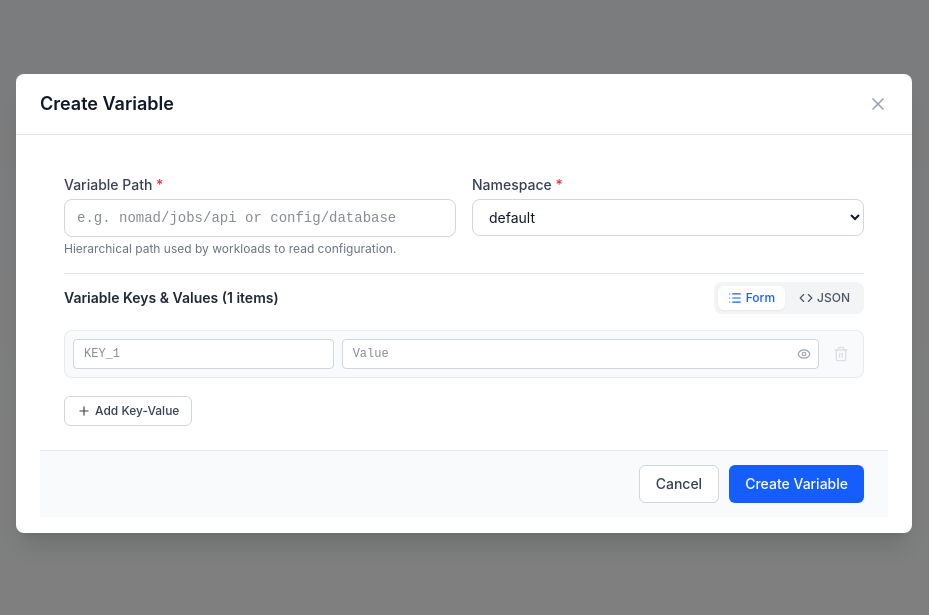
Test: VariableModal › switches to JSON mode and back
In the field with placeholder "KEY_1": (203, 354) [73, 338, 334, 368], type "FOO"
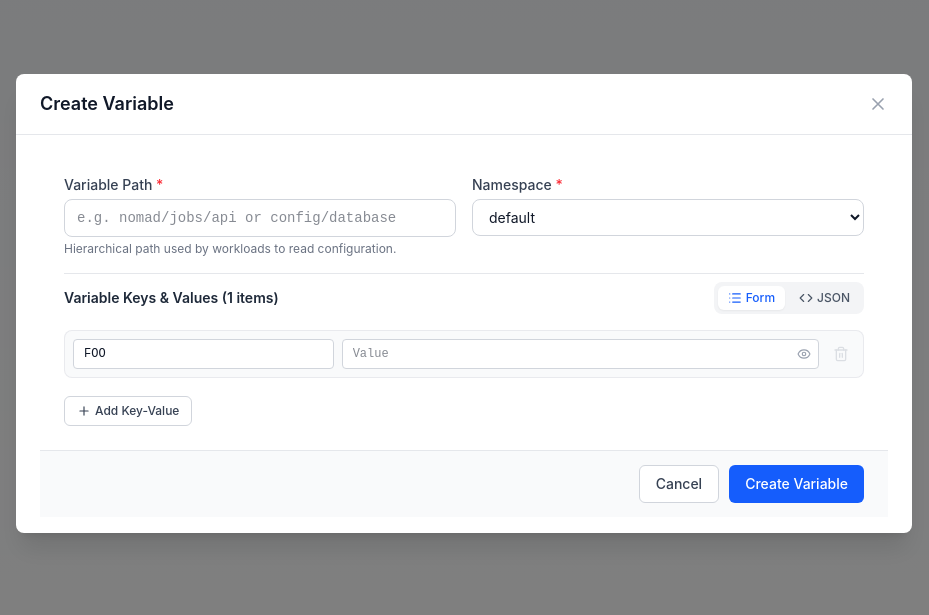
In the password field with placeholder "Value": (580, 354) [342, 338, 819, 368], type "BAR"
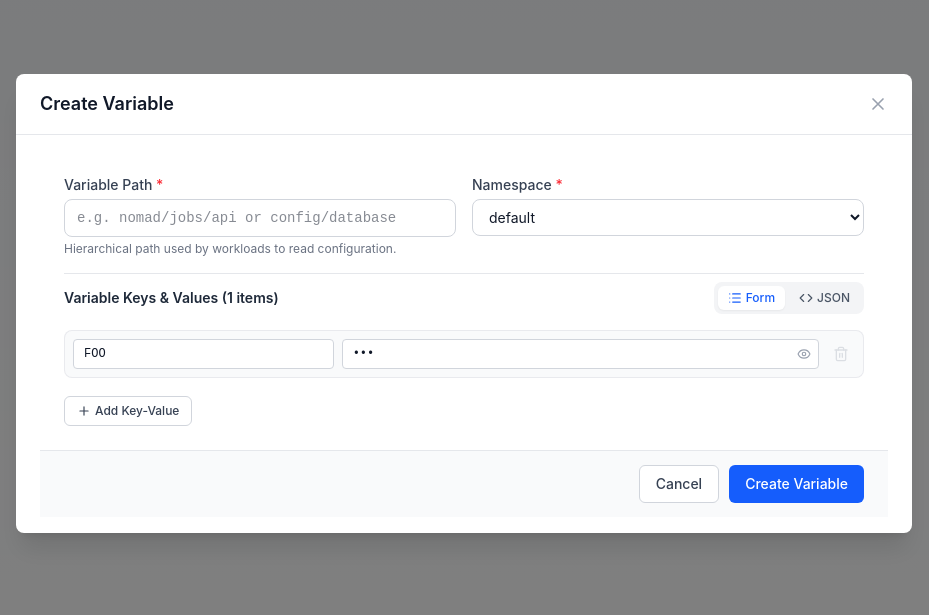
// Switch to JSON
Click the button "JSON": (825, 298) [789, 286, 860, 310]
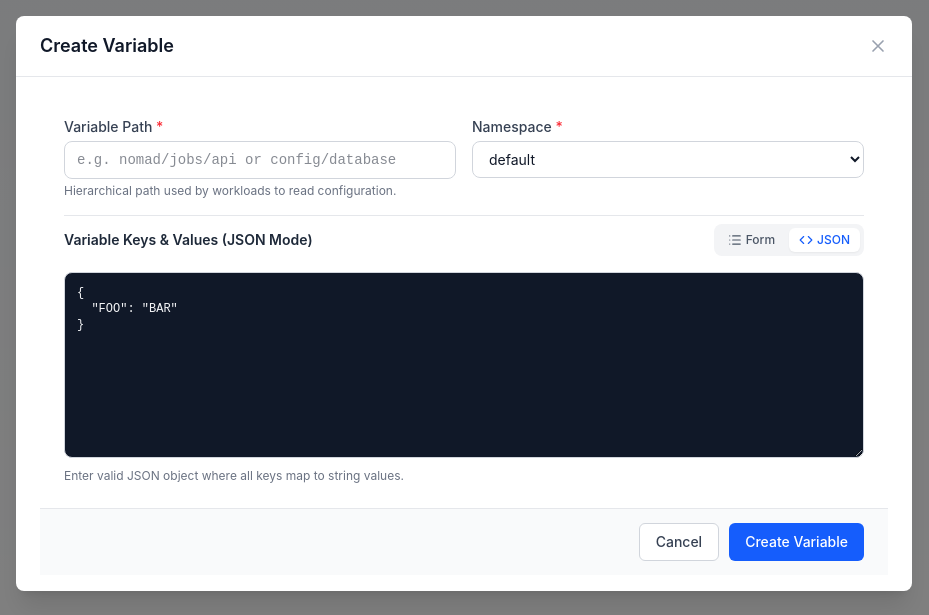
// Switch back to Form
Click the button "Form": (751, 240) [718, 228, 785, 252]
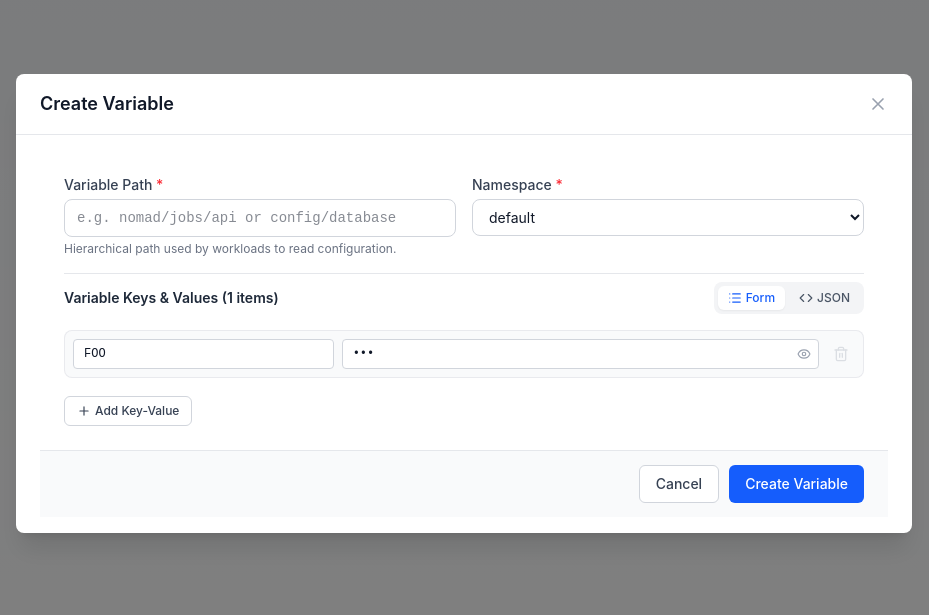
expect the field showing "FOO" is shown: met, box [73, 338, 334, 368]
